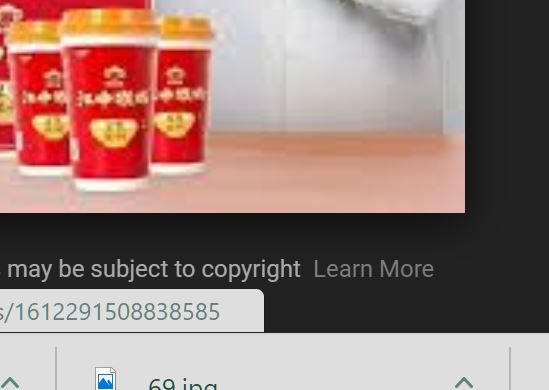cup: (60, 11, 156, 193), (149, 16, 211, 171), (11, 22, 69, 177)
